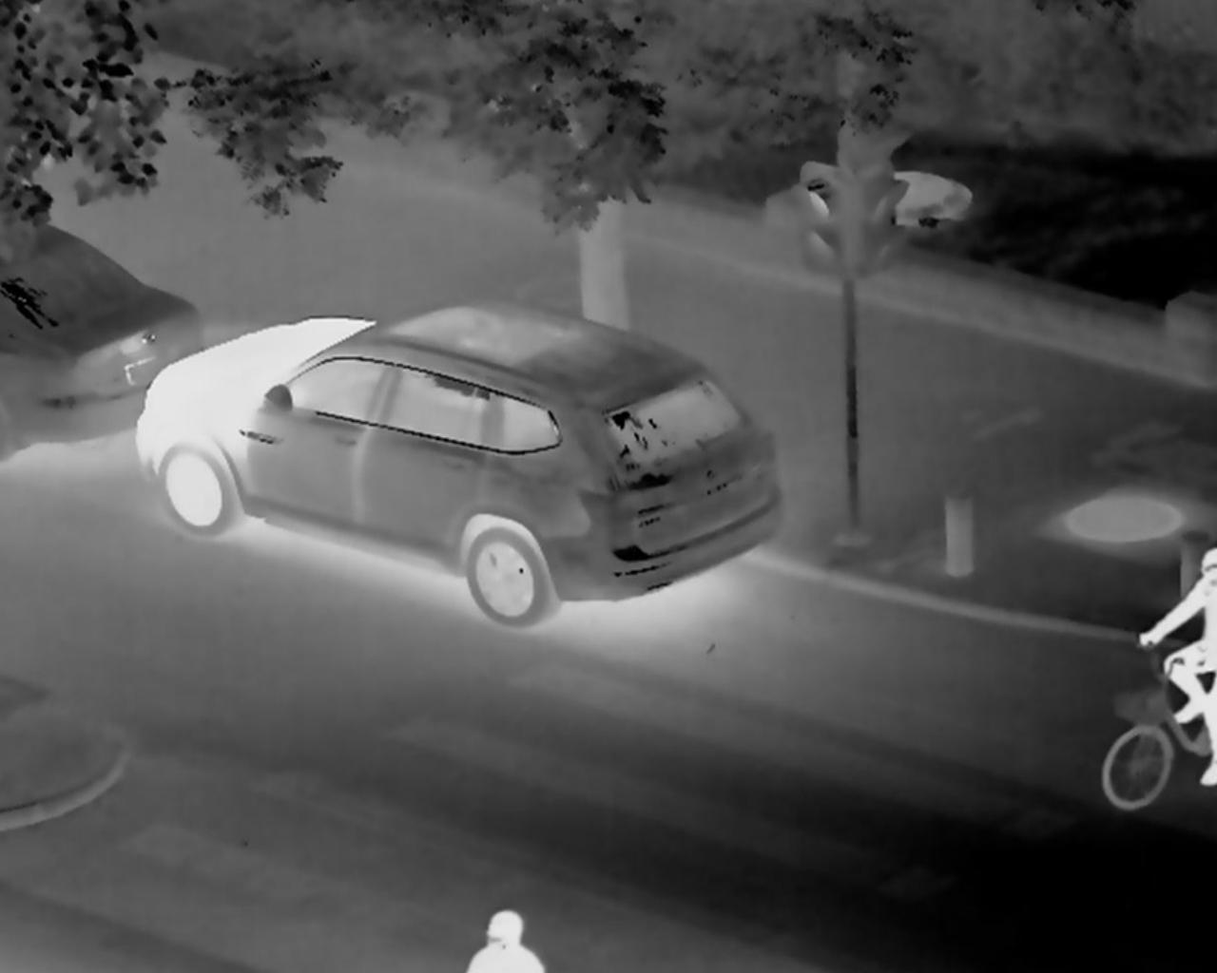person: (454, 884, 556, 973), (1174, 532, 1217, 710)
